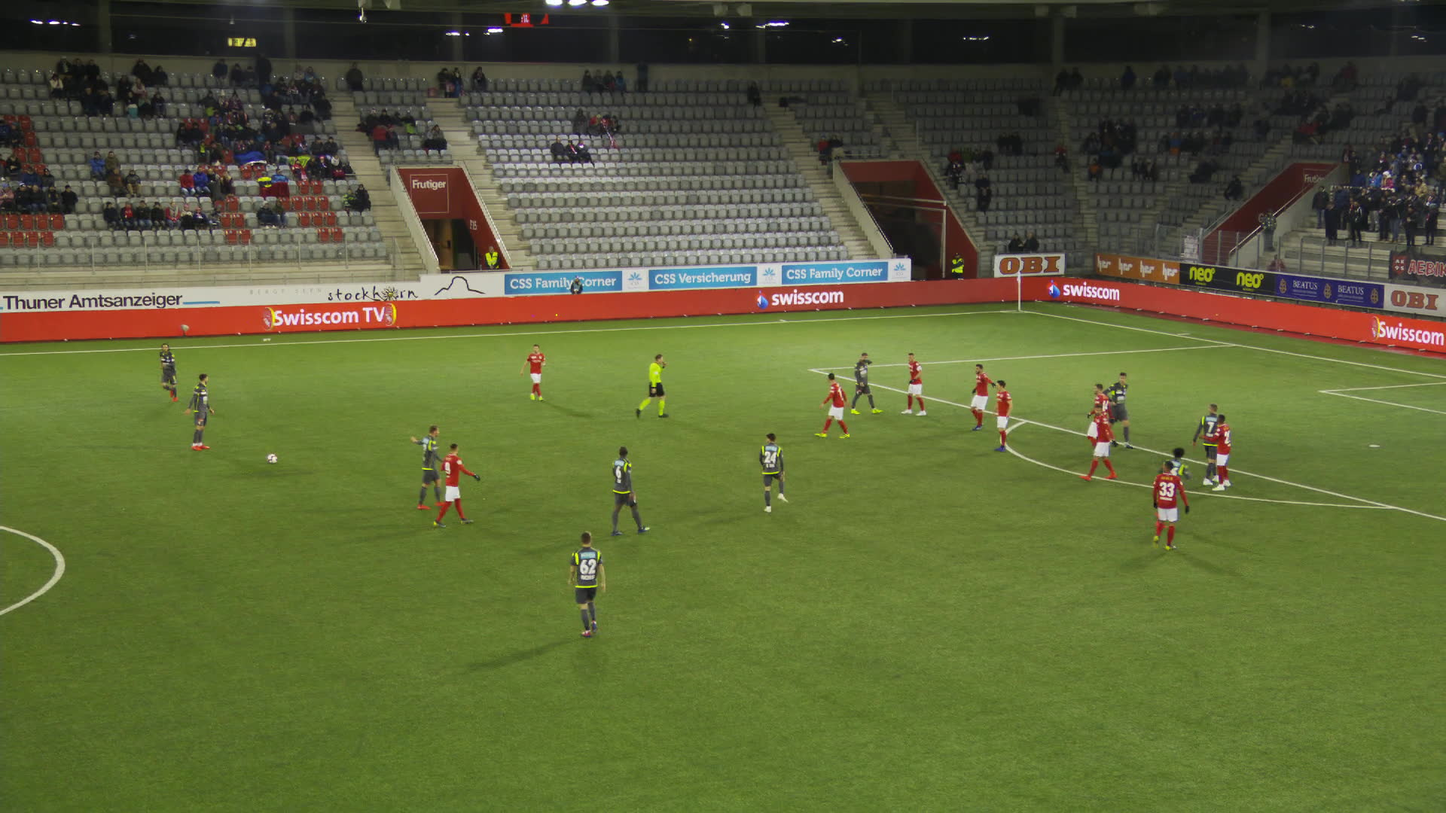ball: (266, 452, 276, 463)
player: (563, 534, 600, 640), (1146, 460, 1180, 552), (405, 425, 442, 507), (1143, 446, 1180, 526), (604, 446, 636, 533), (1199, 413, 1229, 489), (757, 433, 786, 511), (1078, 384, 1108, 456), (964, 364, 996, 431), (1191, 403, 1217, 482), (438, 440, 461, 526), (1101, 368, 1127, 444), (185, 373, 207, 449), (987, 381, 1010, 452), (847, 352, 872, 413), (1088, 401, 1107, 479), (898, 352, 920, 414), (156, 341, 179, 400), (821, 368, 840, 438), (521, 343, 543, 401)
referee: (641, 352, 663, 417)
